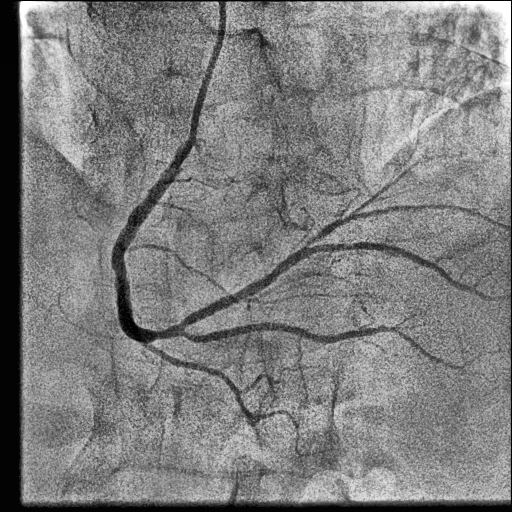pborca: (181, 242, 474, 328)
pda: (186, 323, 457, 369)
rca: (113, 142, 193, 343)
